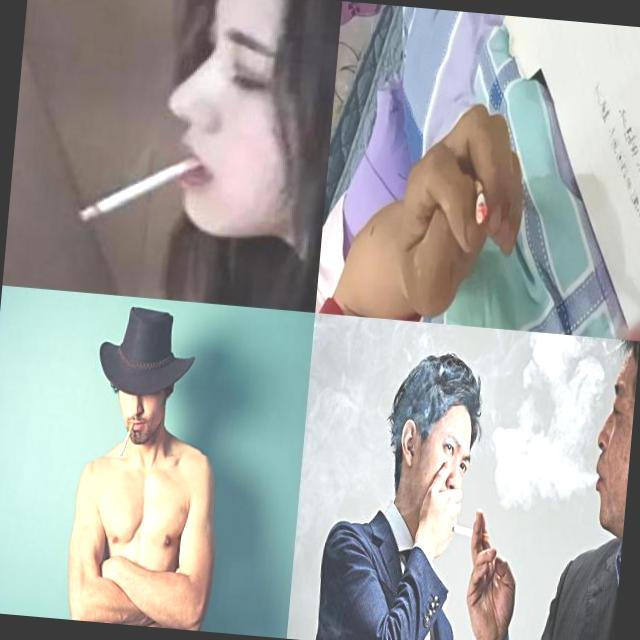smoke: (64, 135, 224, 239), (470, 179, 490, 225), (448, 524, 489, 542), (118, 419, 134, 457)
